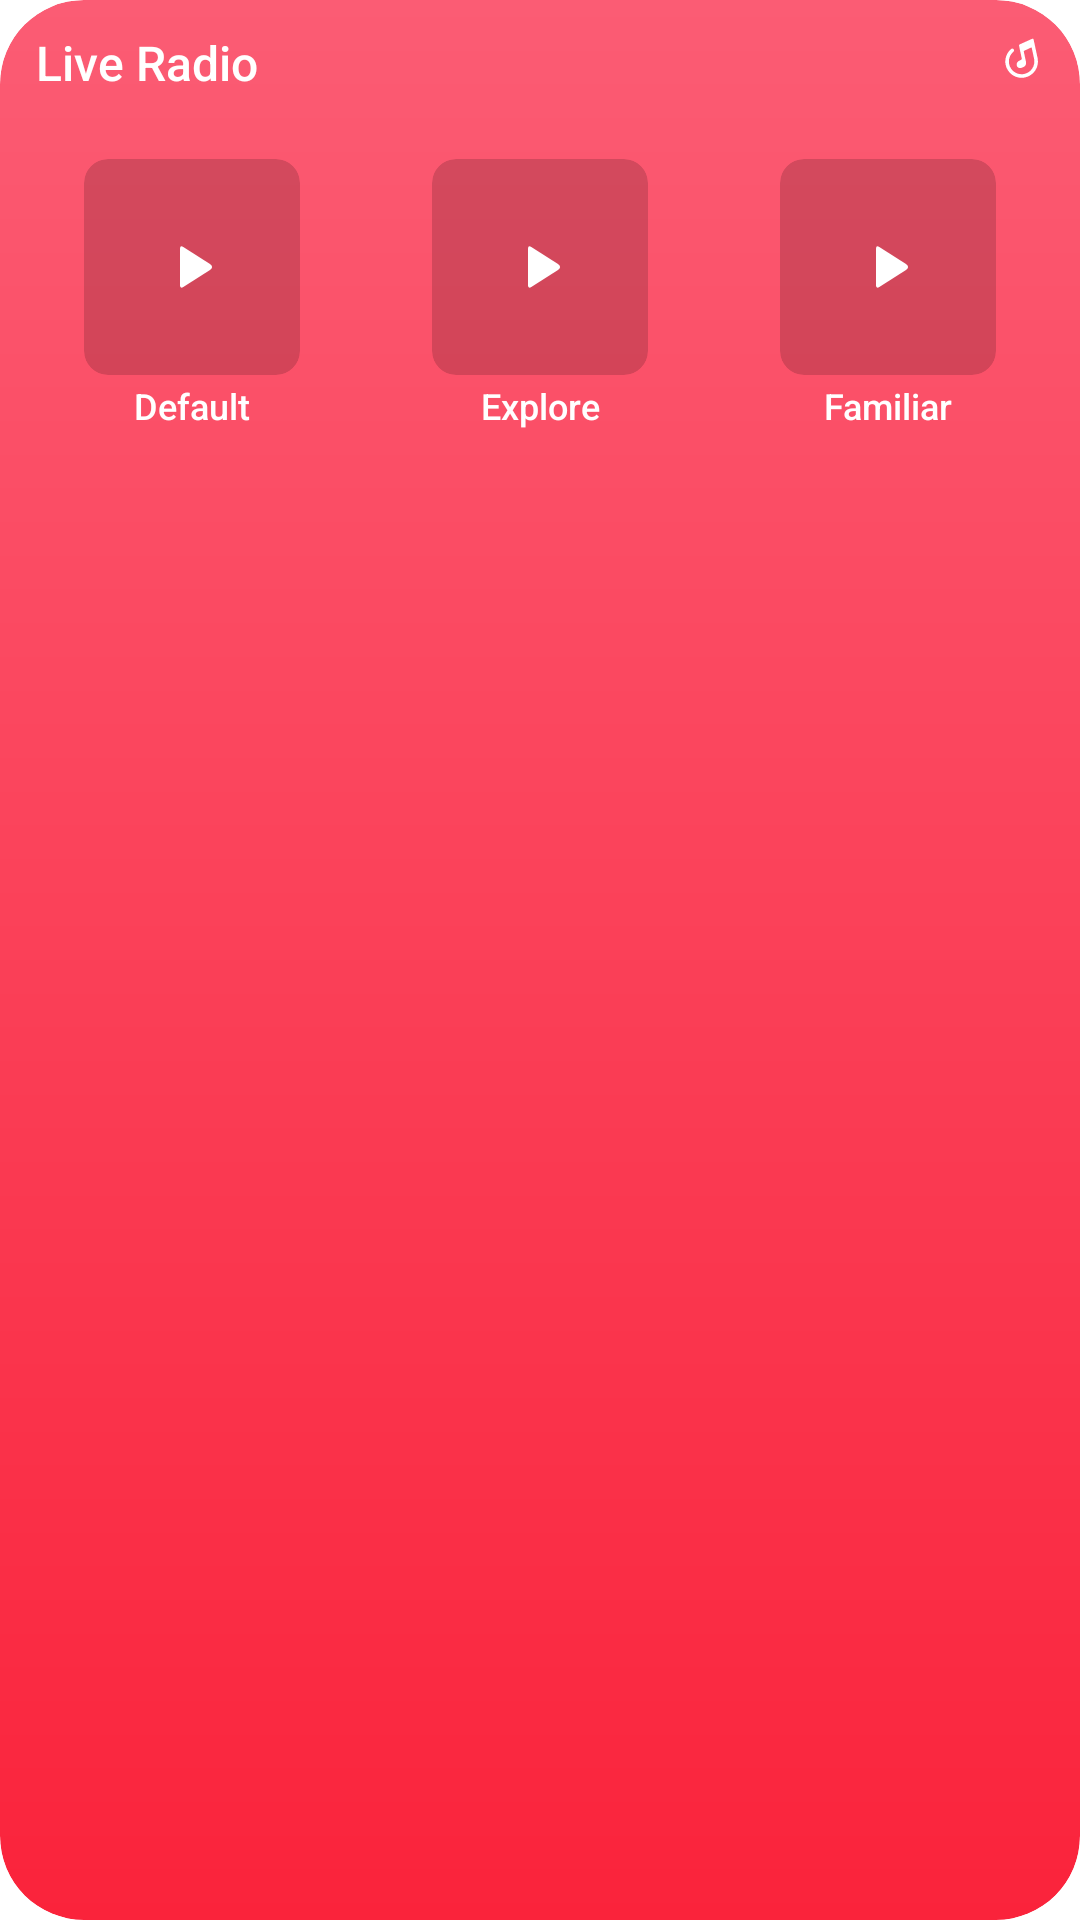

Named icons in this screenshot (1080x1920) and their centers, point (x, y):
widget meilox mark: point (1021, 58)
widget play: point (196, 267), point (544, 267), point (892, 267)
